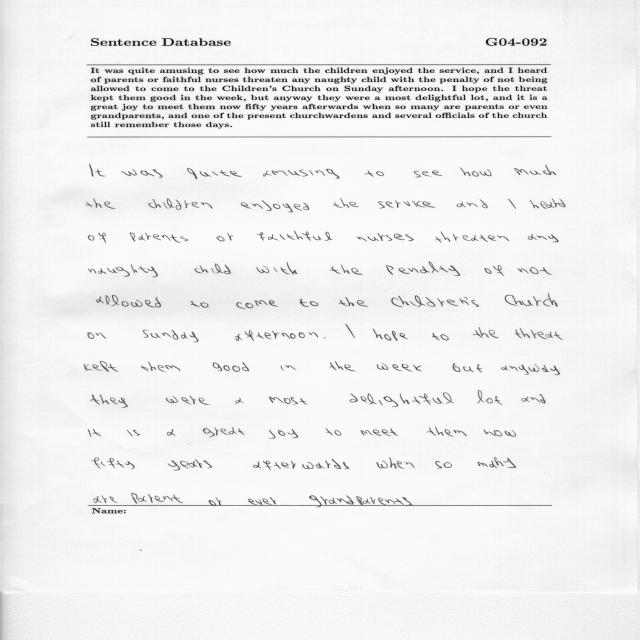word: (349, 392, 454, 407), (94, 493, 221, 505), (253, 459, 349, 471), (392, 296, 480, 308), (386, 262, 460, 276), (236, 330, 326, 341), (89, 264, 158, 277), (241, 201, 309, 213), (435, 232, 509, 243), (263, 169, 340, 179), (97, 295, 161, 307), (257, 231, 333, 241), (505, 293, 558, 307), (148, 199, 213, 210), (143, 330, 199, 342), (309, 495, 370, 505), (187, 168, 242, 179), (501, 365, 560, 375), (130, 233, 188, 243), (515, 328, 563, 339), (168, 459, 212, 471), (378, 200, 435, 209), (257, 262, 298, 274), (91, 395, 128, 408), (92, 458, 135, 469), (356, 233, 414, 241), (377, 457, 415, 469), (514, 165, 556, 175), (373, 329, 408, 341), (203, 428, 245, 438), (478, 457, 516, 468), (426, 427, 467, 437), (166, 396, 210, 405), (141, 362, 180, 372), (84, 361, 119, 372), (121, 169, 163, 178), (236, 300, 278, 309), (194, 264, 231, 274), (213, 362, 249, 372), (530, 199, 565, 209), (477, 391, 502, 405), (370, 497, 413, 505), (269, 396, 307, 405), (330, 265, 363, 275), (377, 363, 413, 372), (86, 199, 116, 209), (268, 429, 298, 439), (361, 428, 398, 436), (339, 297, 368, 307), (460, 168, 492, 177), (473, 327, 499, 338), (453, 364, 482, 373), (330, 362, 356, 372), (528, 234, 559, 242), (333, 199, 359, 208), (483, 430, 516, 437), (484, 265, 504, 276), (414, 171, 442, 178), (467, 200, 488, 209), (90, 164, 105, 176), (88, 233, 106, 243), (530, 267, 552, 275), (300, 299, 319, 307), (530, 394, 546, 403), (248, 499, 272, 505), (345, 325, 355, 339), (432, 333, 449, 341), (365, 170, 384, 177), (217, 233, 233, 241), (88, 332, 106, 339), (326, 428, 341, 436), (435, 461, 452, 468), (88, 428, 101, 437), (191, 301, 209, 307), (508, 198, 516, 209), (127, 430, 140, 436), (281, 365, 296, 370), (413, 365, 422, 372), (167, 429, 176, 436), (518, 269, 529, 274), (235, 398, 244, 404), (456, 202, 466, 207), (522, 397, 529, 403), (270, 497, 276, 504)
